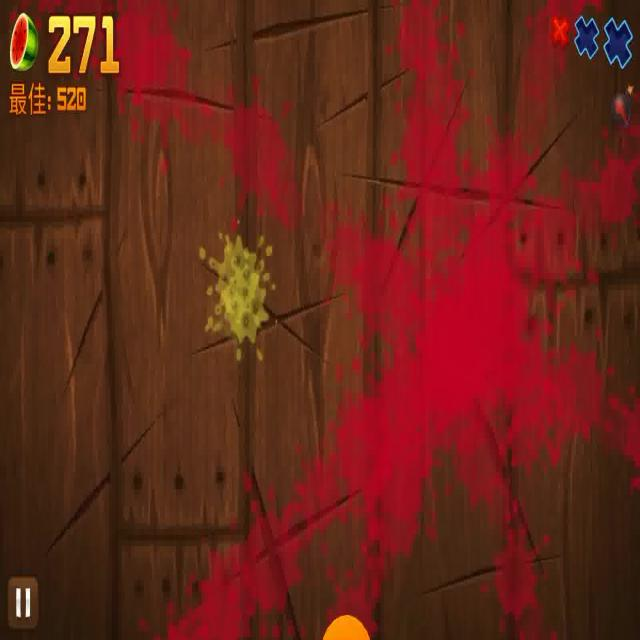fruit: (322, 613, 372, 640)
